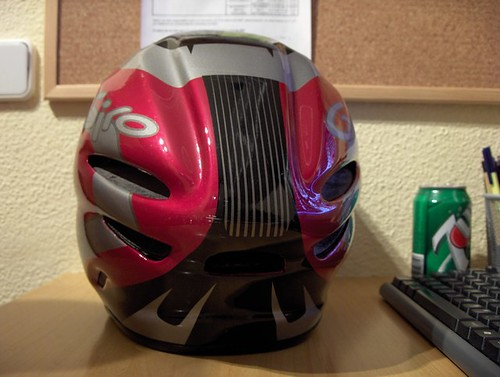helmet: (55, 31, 368, 361)
